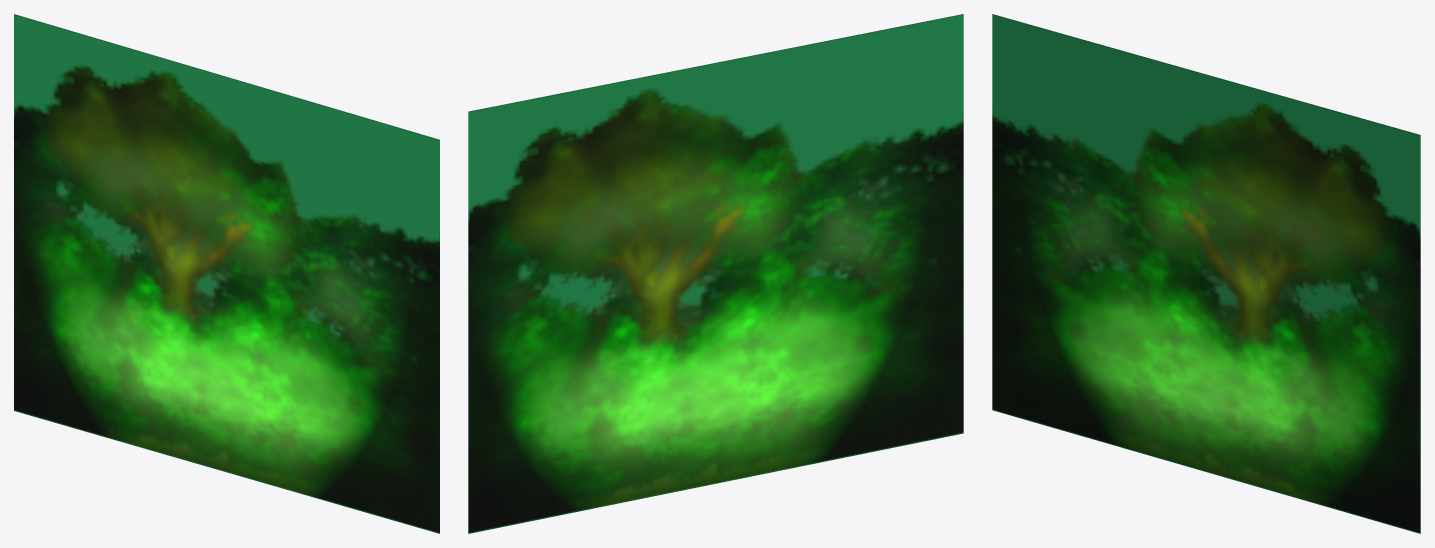
3 renders of one model, left to right at view 1: azimuth 90°, elevation 25°; view 2: azimuth 150°, elevation 25°; view 3: azimuth 270°, elevation 25°, orthographic. The views are drawn at different scales.
Visible parts, largest first — view 1: Object03; view 2: Object03; view 3: Object03.
Part boxes in pixels (x1,y1,x2,y2): Object03: (14,14,439,533); Object03: (468,14,963,533); Object03: (992,14,1420,533).
Bounding box in the file's own units: 869 × 1307 × 1271.
Materials: 1 (1 with a texture image).
